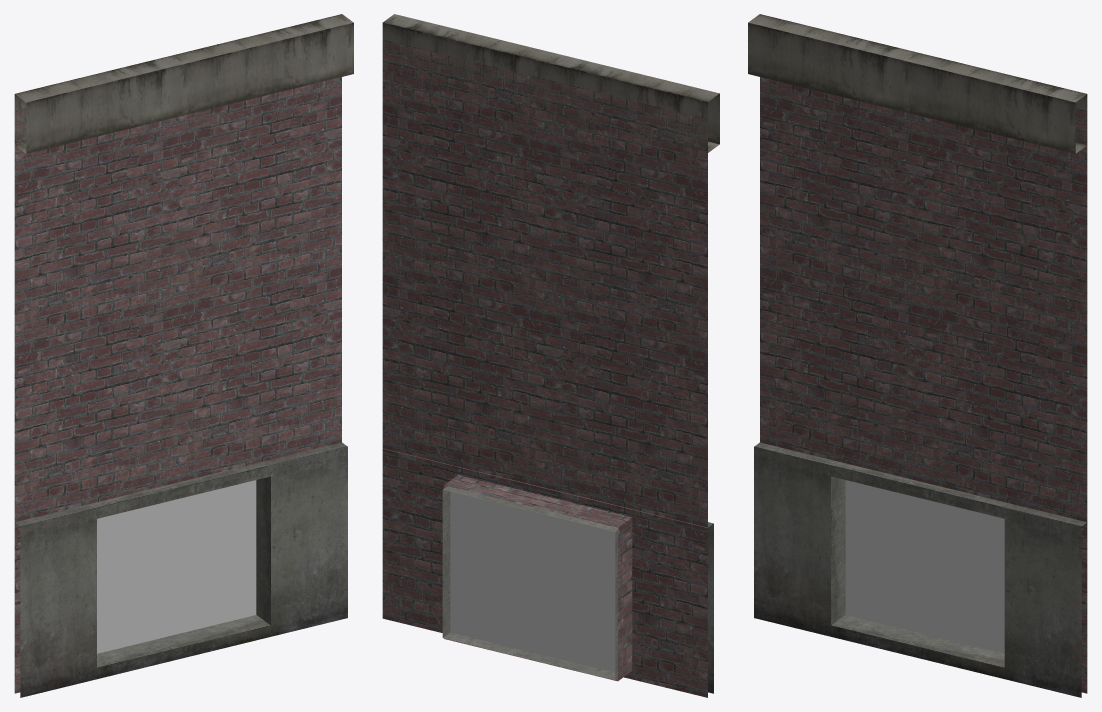
Rendered from Wall_B_Brick_Window_J_2x.FBX.
3 views of the same model, side by side, from view 1: azimuth 30°, elevation 25°; view 2: azimuth 150°, elevation 25°; view 3: azimuth 330°, elevation 25° (orthographic).
Visible parts, largest first — view 1: Wall_B_Brick_Window_J_2x; view 2: Wall_B_Brick_Window_J_2x; view 3: Wall_B_Brick_Window_J_2x.
Part boxes in pixels (<box>): Wall_B_Brick_Window_J_2x: <box>14,14,353,697</box>; Wall_B_Brick_Window_J_2x: <box>382,14,719,697</box>; Wall_B_Brick_Window_J_2x: <box>748,14,1087,697</box>.
Bounding box in the file's own units: 200 × 350 × 29.88.
